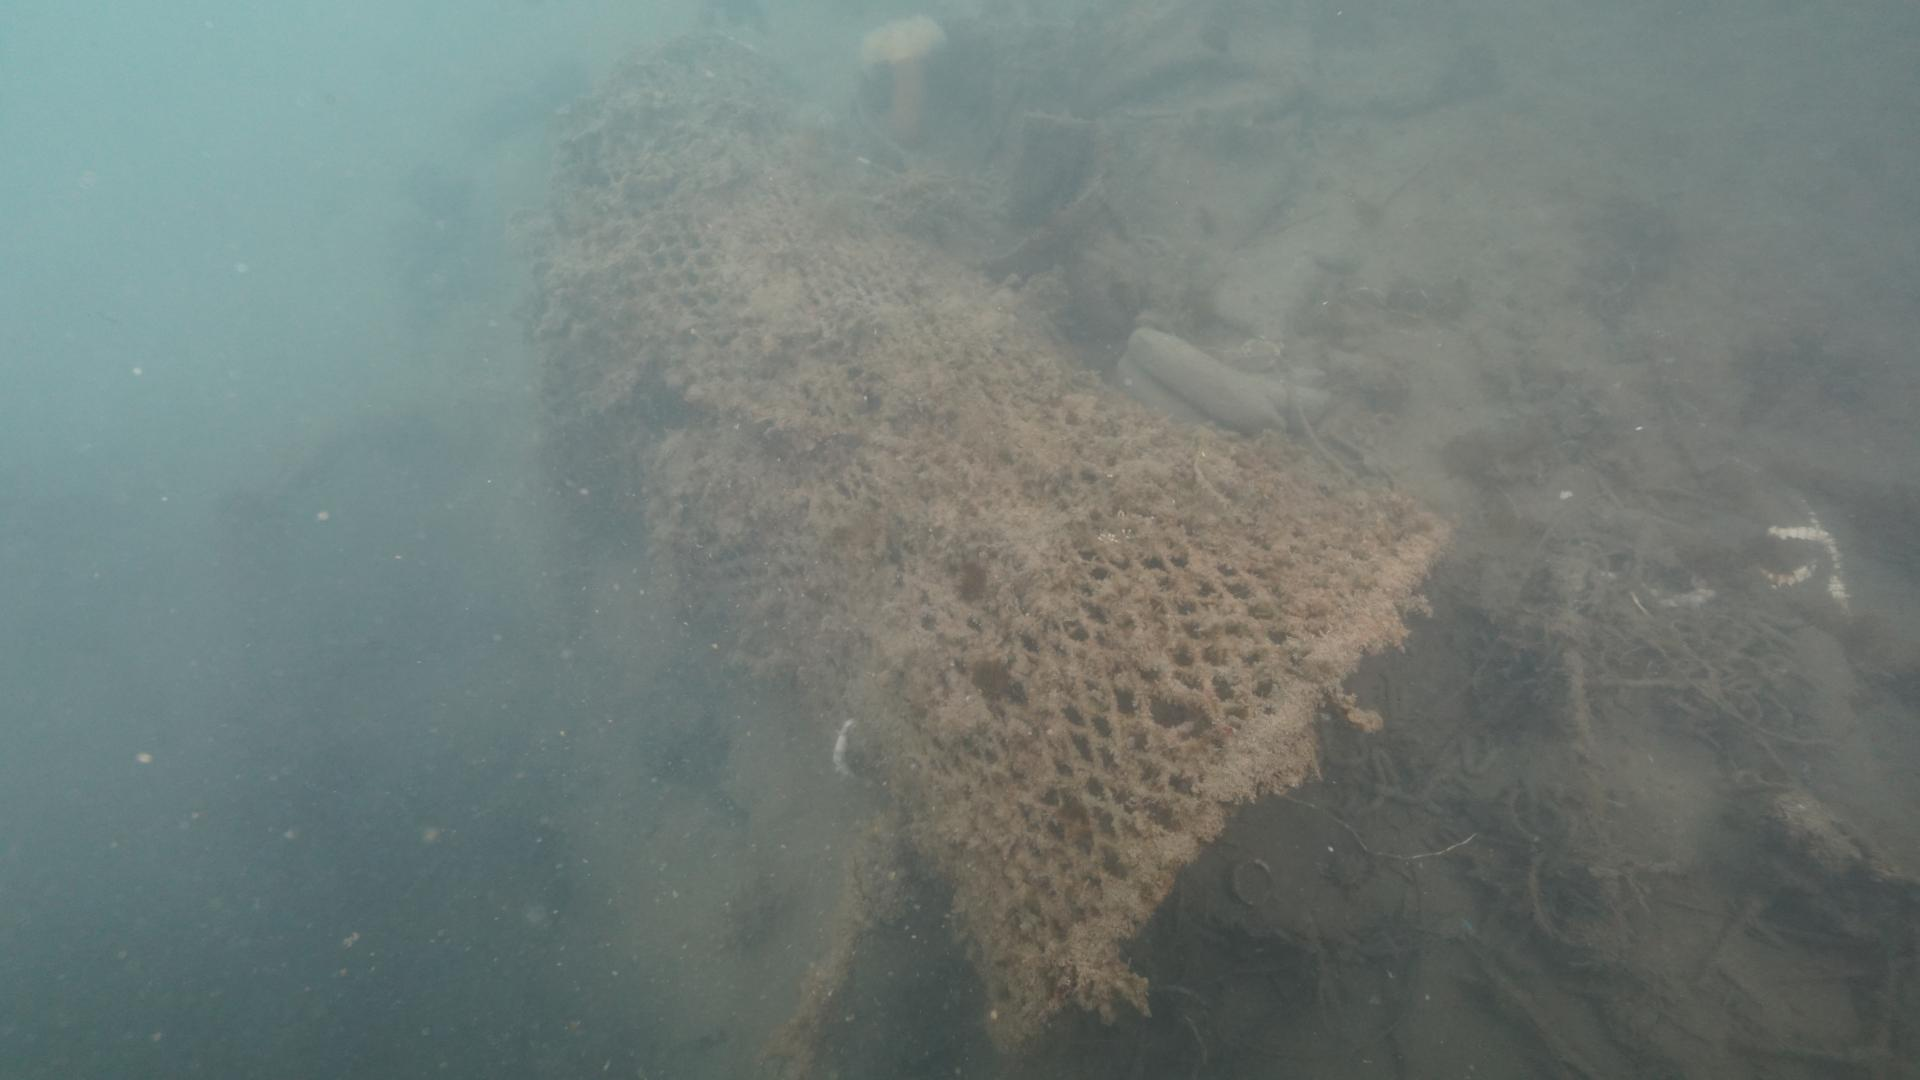spring fish trap: (516, 25, 1468, 1062)
